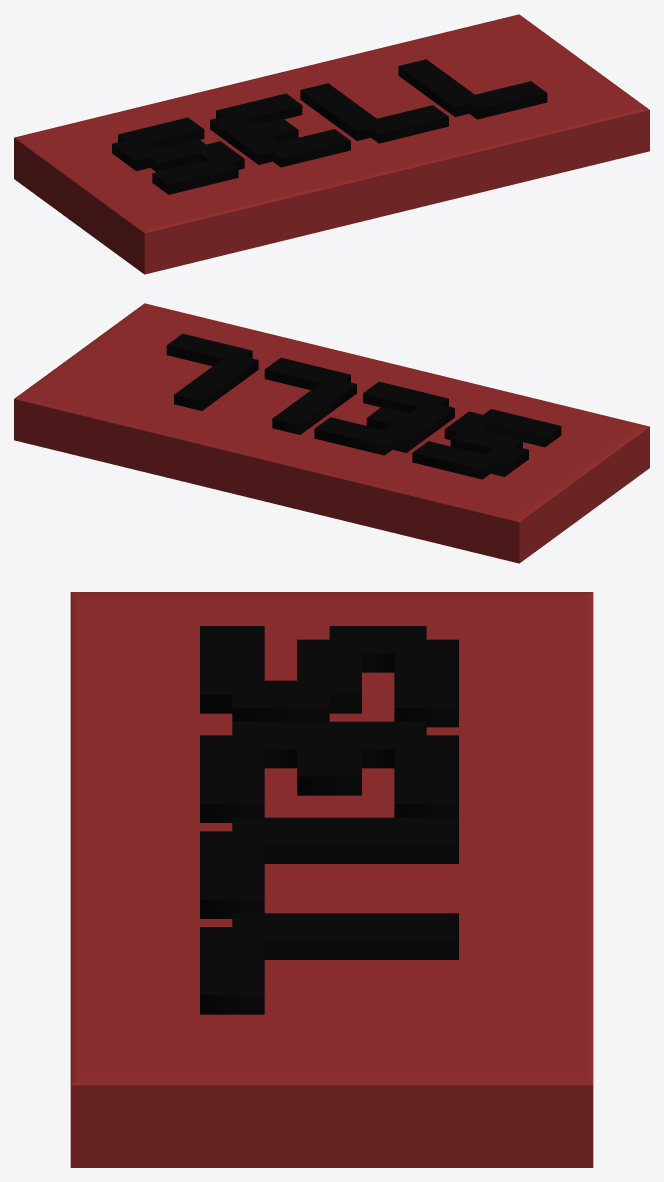
The model's file is SellButton.glb.
3 views of the same model, one above another, from view 1: azimuth 30°, elevation 25°; view 2: azimuth 150°, elevation 25°; view 3: azimuth 270°, elevation 25° (orthographic). The views are drawn at different scales.
Parts seen in each view (by area): view 1: Cube, Text; view 2: Cube, Text; view 3: Cube, Text.
Part boxes in pixels (x1,y1,x2,y2): Cube: (14,14,649,274); Text: (112,59,547,194); Cube: (14,303,649,563); Text: (166,333,561,479); Cube: (70,592,593,1167); Text: (200,626,458,1014).
Size of the model in its own units: 4.47 by 0.4385 by 2.
